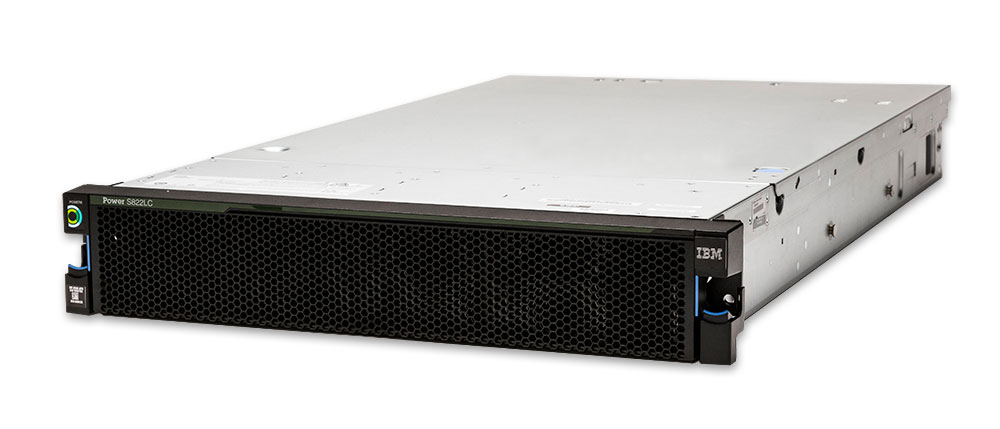ibm-server: (49, 62, 966, 384)
